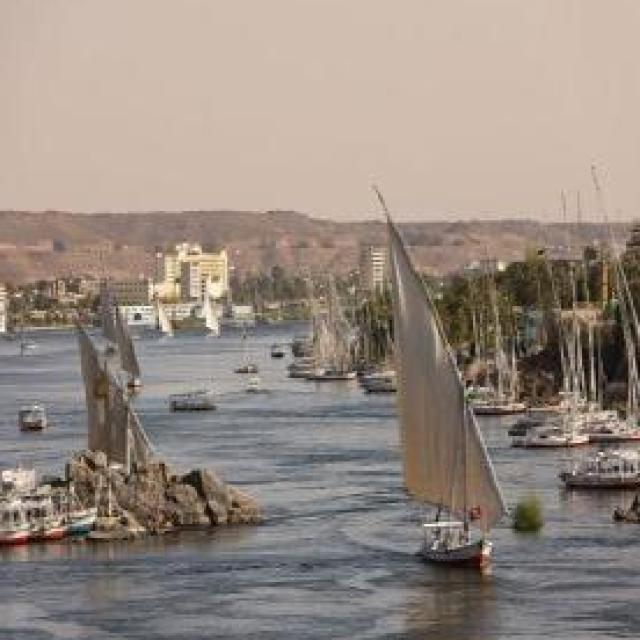houseboat: (0, 473, 91, 547), (166, 388, 221, 416), (16, 401, 48, 436)
sailboat: (366, 176, 509, 569)
